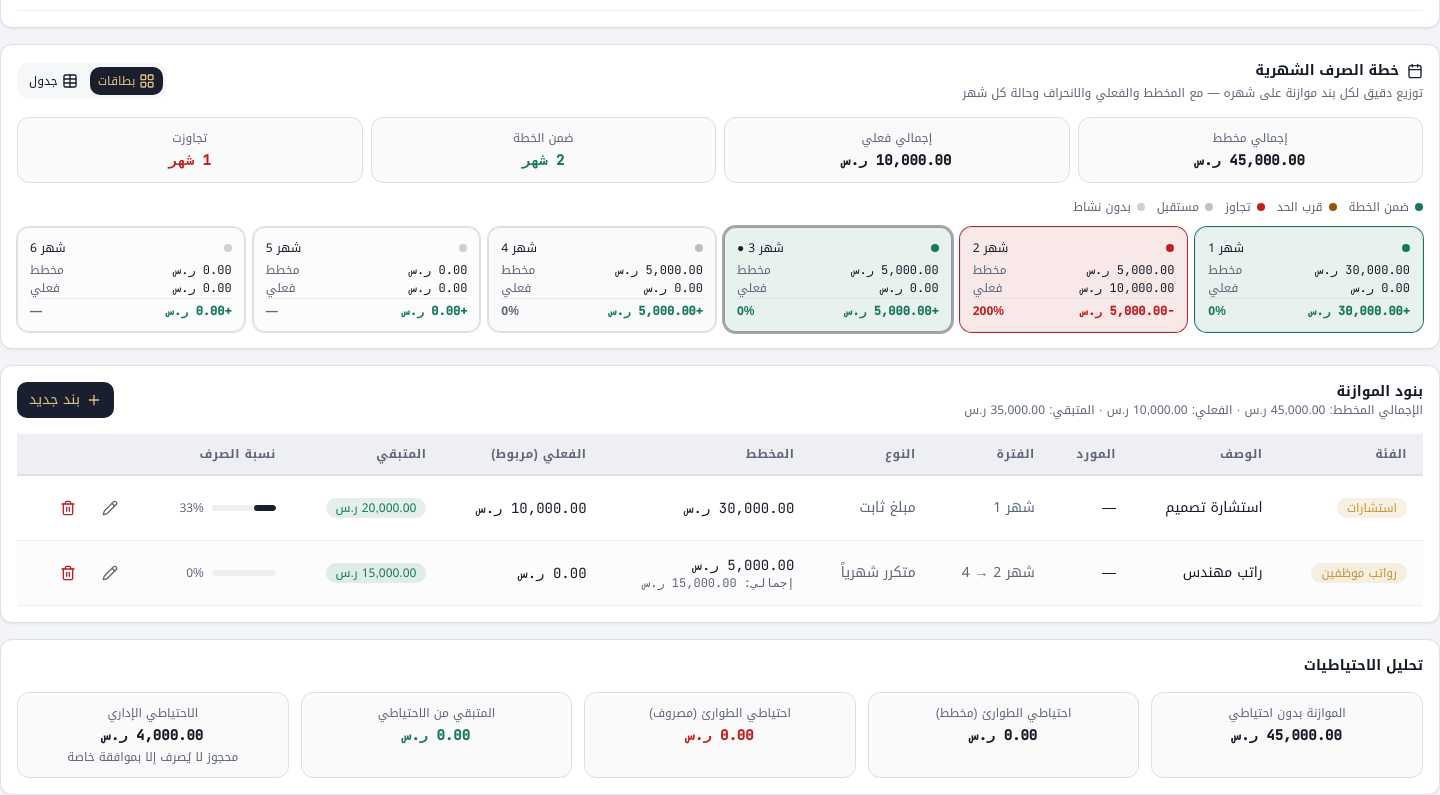
it: adding and editing an item › opens an edit on the row's values and saves the new amount
Later steps or results of the test are not shown.
(page scrolled)
Click the button named "تعديل البند" in the row of "استشارة تصميم" at (110, 508), box [90,488,130,528]
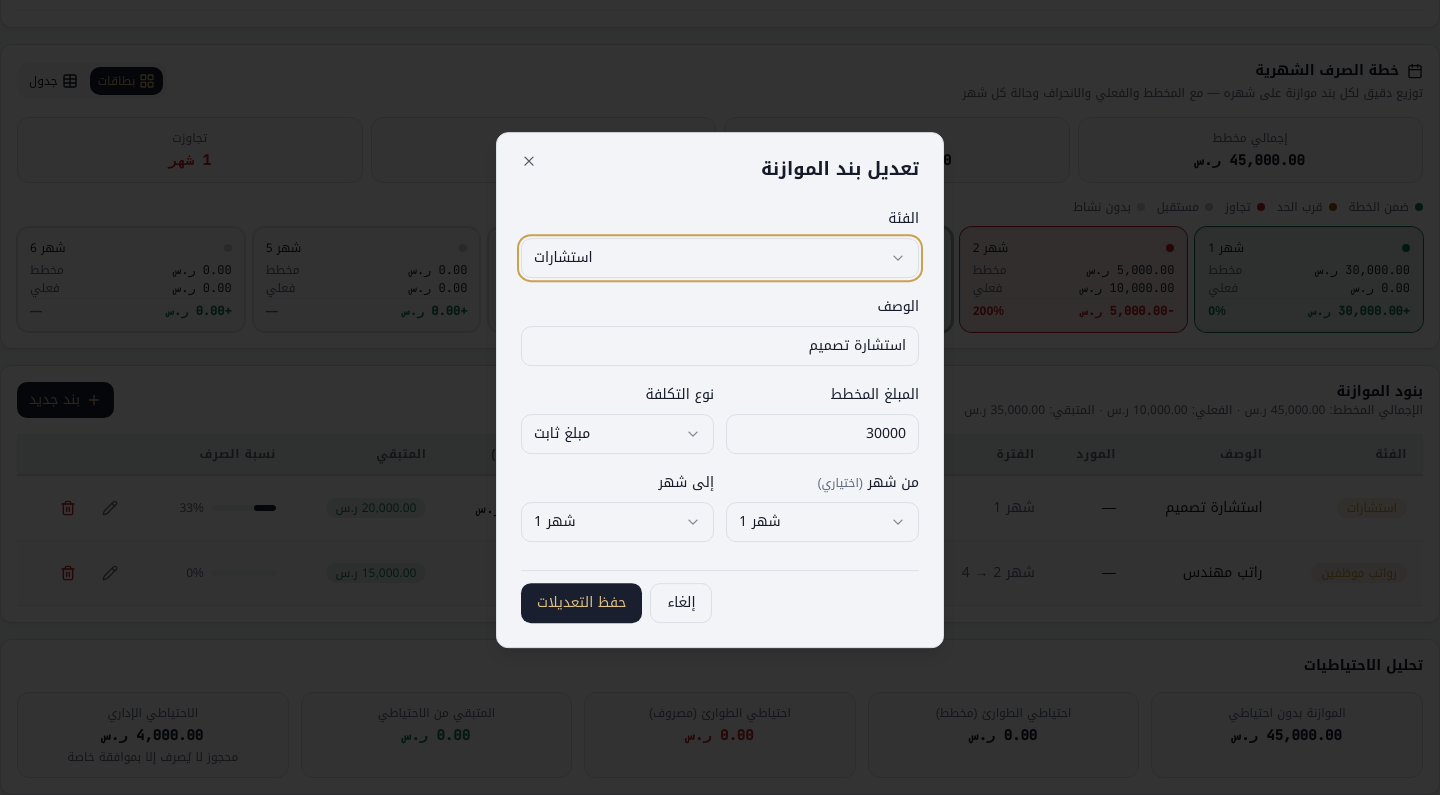
Expected: the number field holds "30000", [726,414,919,454]
